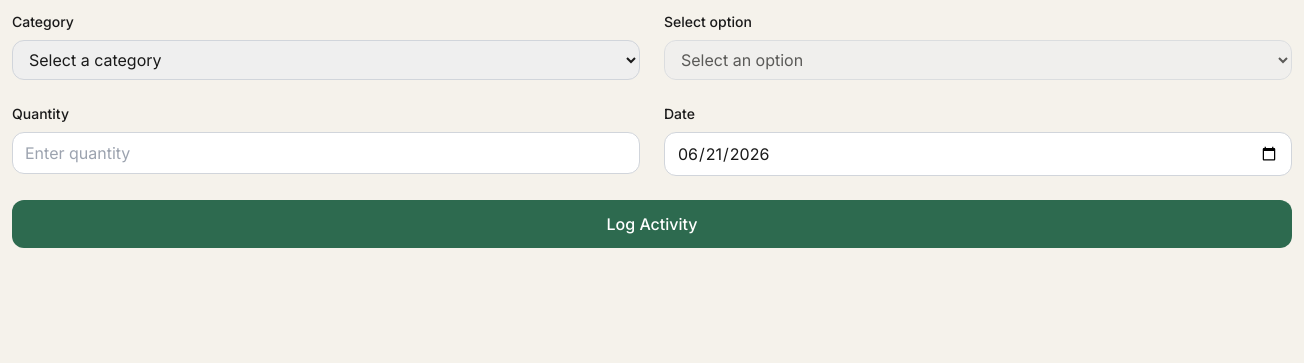
Test: ActivityForm Validation › rejects submission with a negative number in quantity field
The image size is (1304, 363).
Select "Transport" in the dropdown labelled "Category": (326, 60) [12,40,640,80]
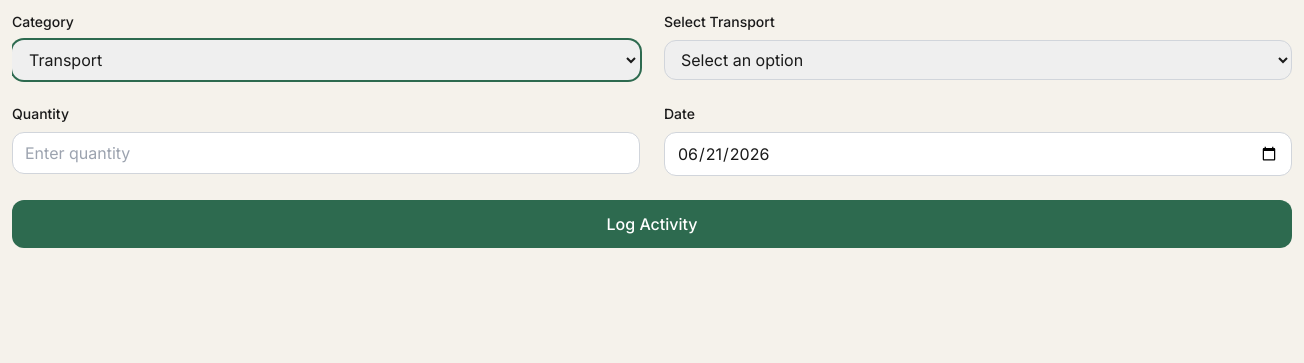
Select "Car (Petrol)" in the dropdown labelled "Select Transport": (978, 60) [664,40,1292,80]
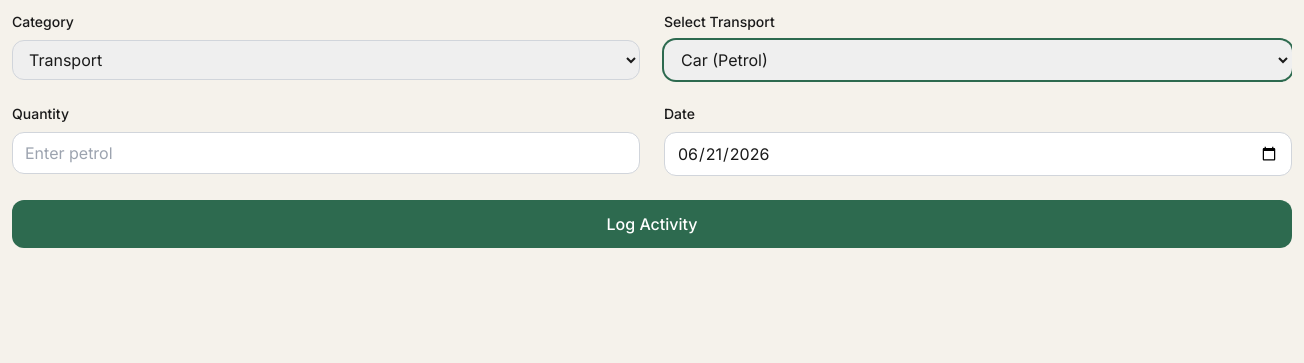
In the number field labelled "Quantity": (326, 153) [12,132,640,174], type "-5"
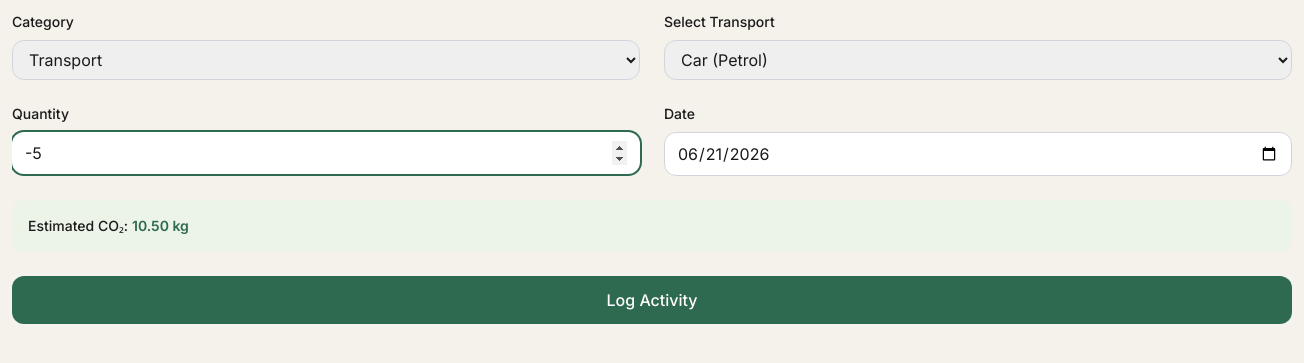
Submit the form from the button "Log Activity", box [12,276,1292,324]
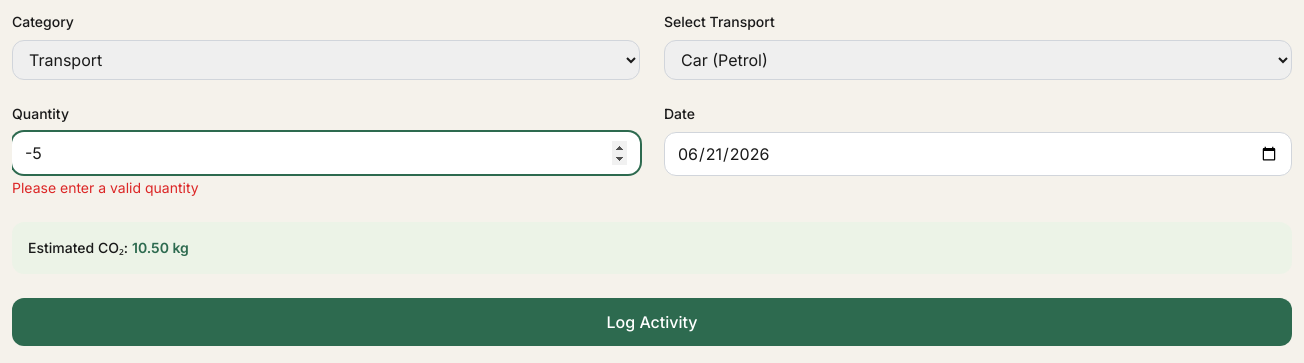
Expected: the text "Please enter a valid quantity" is shown, [12,179,199,196]
